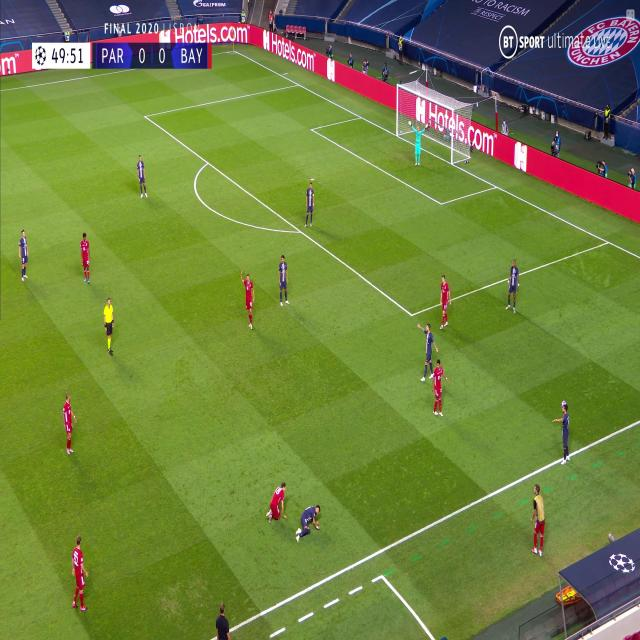player: (70, 536, 89, 612), (554, 398, 572, 466), (530, 483, 546, 557), (418, 320, 437, 380), (430, 359, 449, 416), (296, 502, 321, 543), (61, 392, 77, 456), (102, 296, 116, 358), (266, 483, 286, 526), (438, 274, 452, 331), (241, 272, 255, 329), (505, 260, 519, 313), (18, 227, 30, 284), (215, 600, 231, 640), (277, 254, 289, 307), (79, 232, 91, 283), (304, 180, 316, 230), (136, 155, 148, 198), (412, 127, 421, 167)
